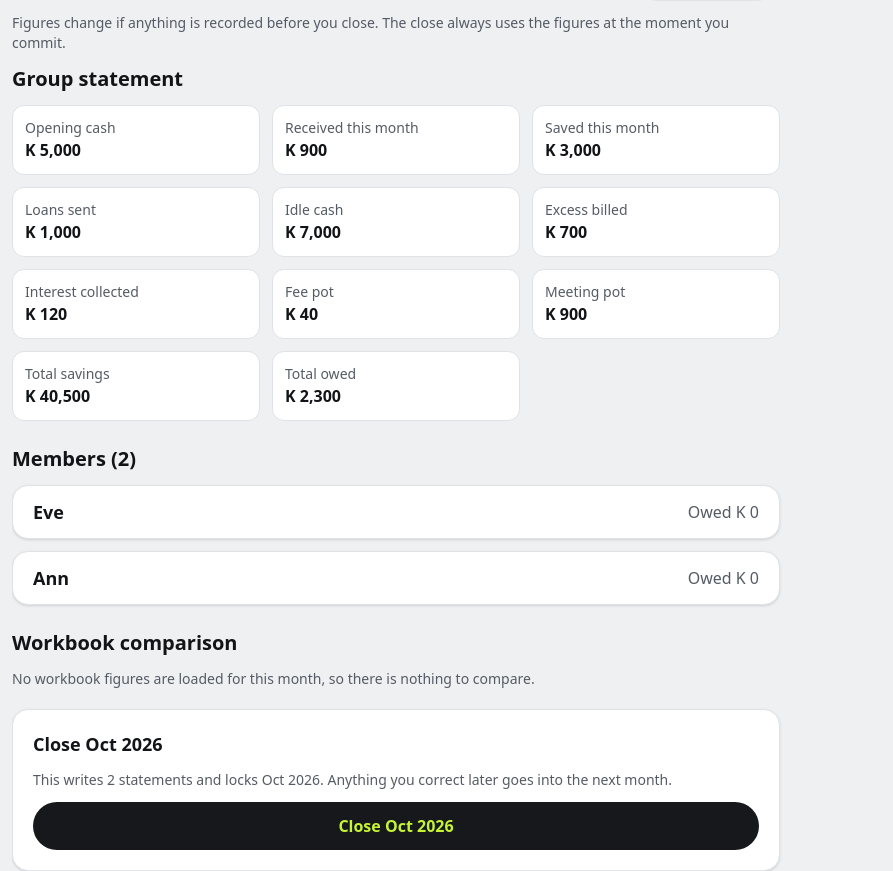
Test: already closed (a retry after a dropped connection) says so and stays put
(page scrolled)
Click the button "Close Oct 2026".
click(396, 826)  # box left=33, top=802, right=759, bottom=850
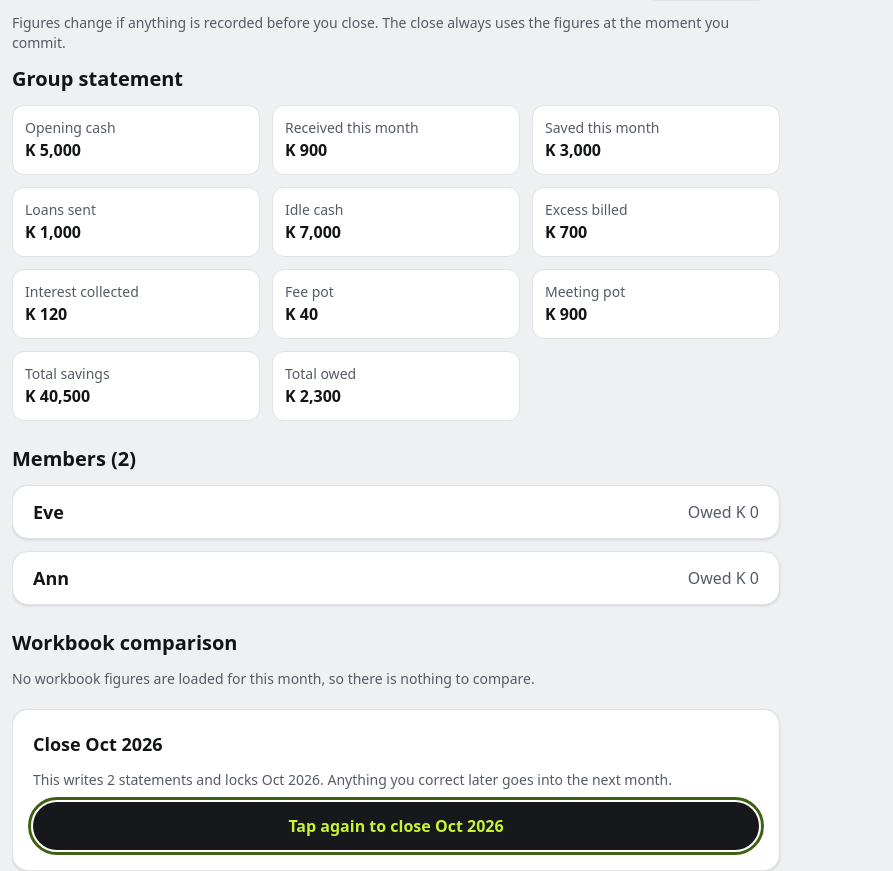
Click the button "Tap again to close Oct 2026".
click(396, 826)  # box left=33, top=802, right=759, bottom=850
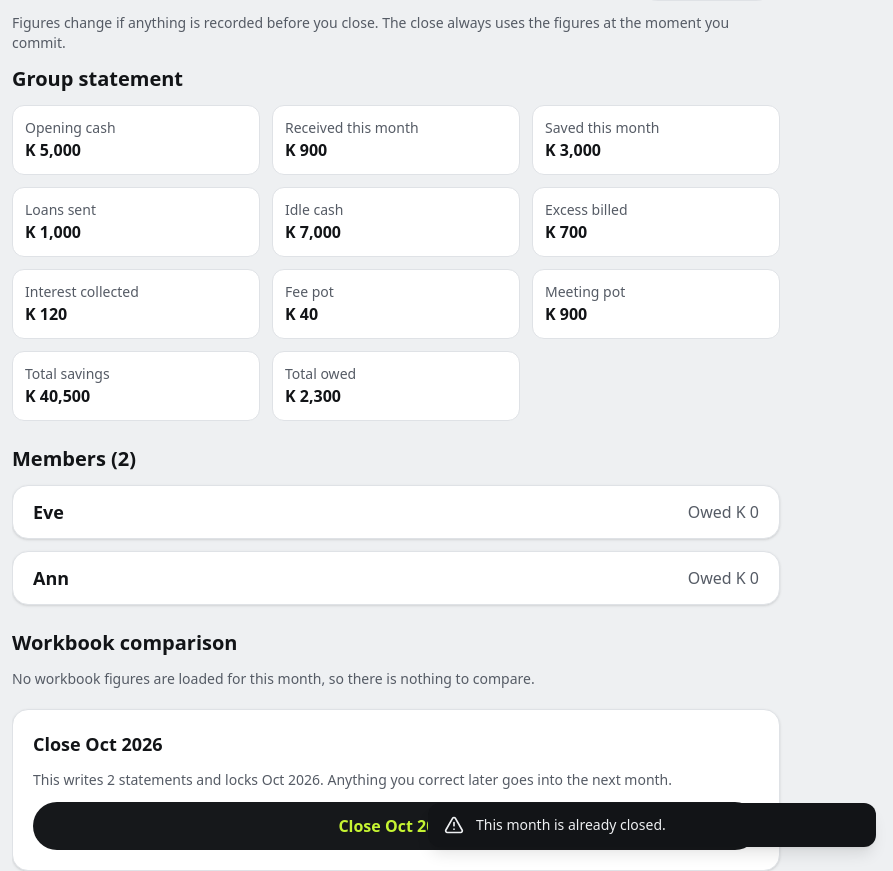
Expected: the text "This month is already closed." is shown, left=476, top=815, right=666, bottom=834
